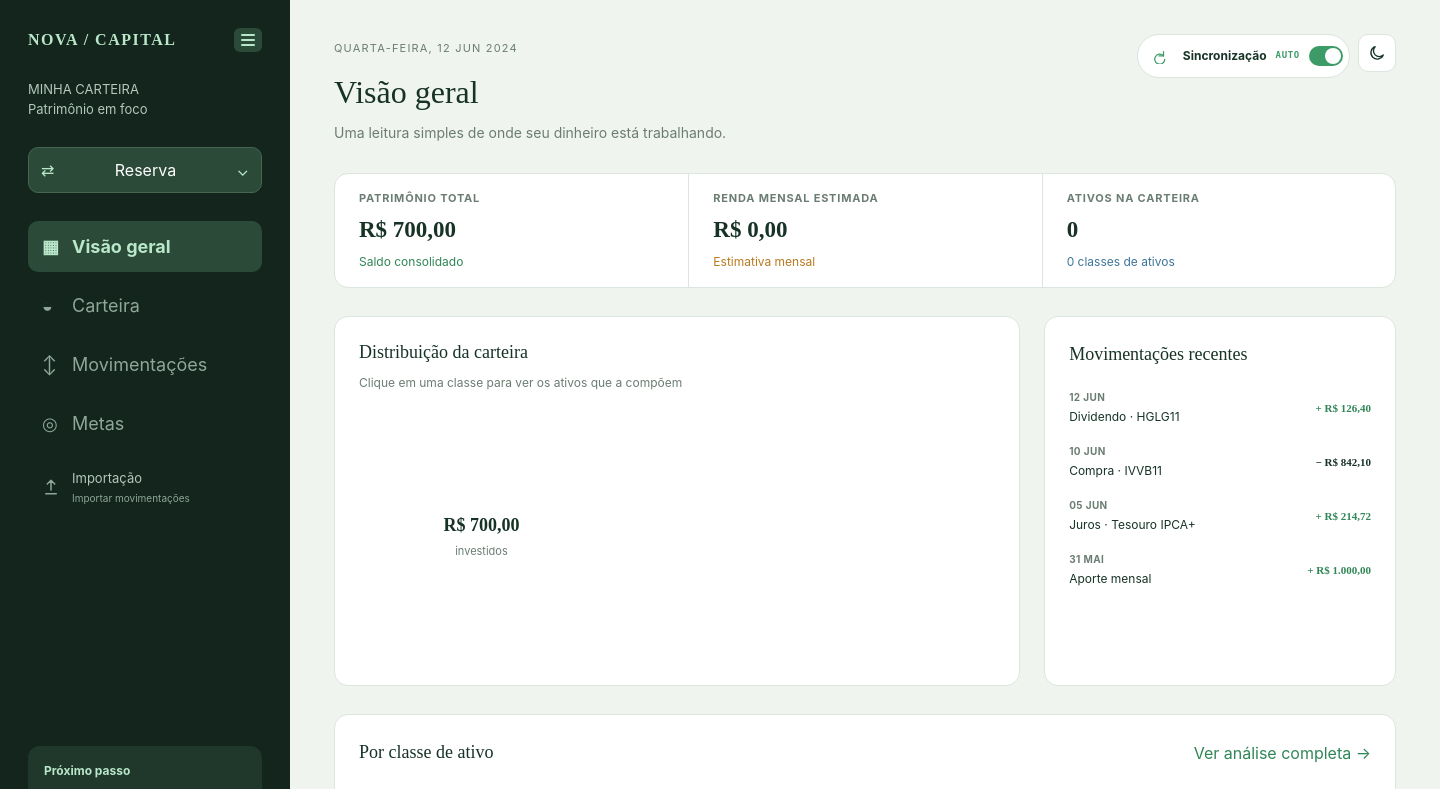
Scenario: I4 — seleção e carregamento › mantém dados anteriores da mesma carteira e mostra erro de atualização
Expected: the element named "Resumo da carteira" is shown, [334,173,1396,288]
Click the button named "Sincronizar dados da carteira" at [1159, 56], box [1144,41,1174,71]
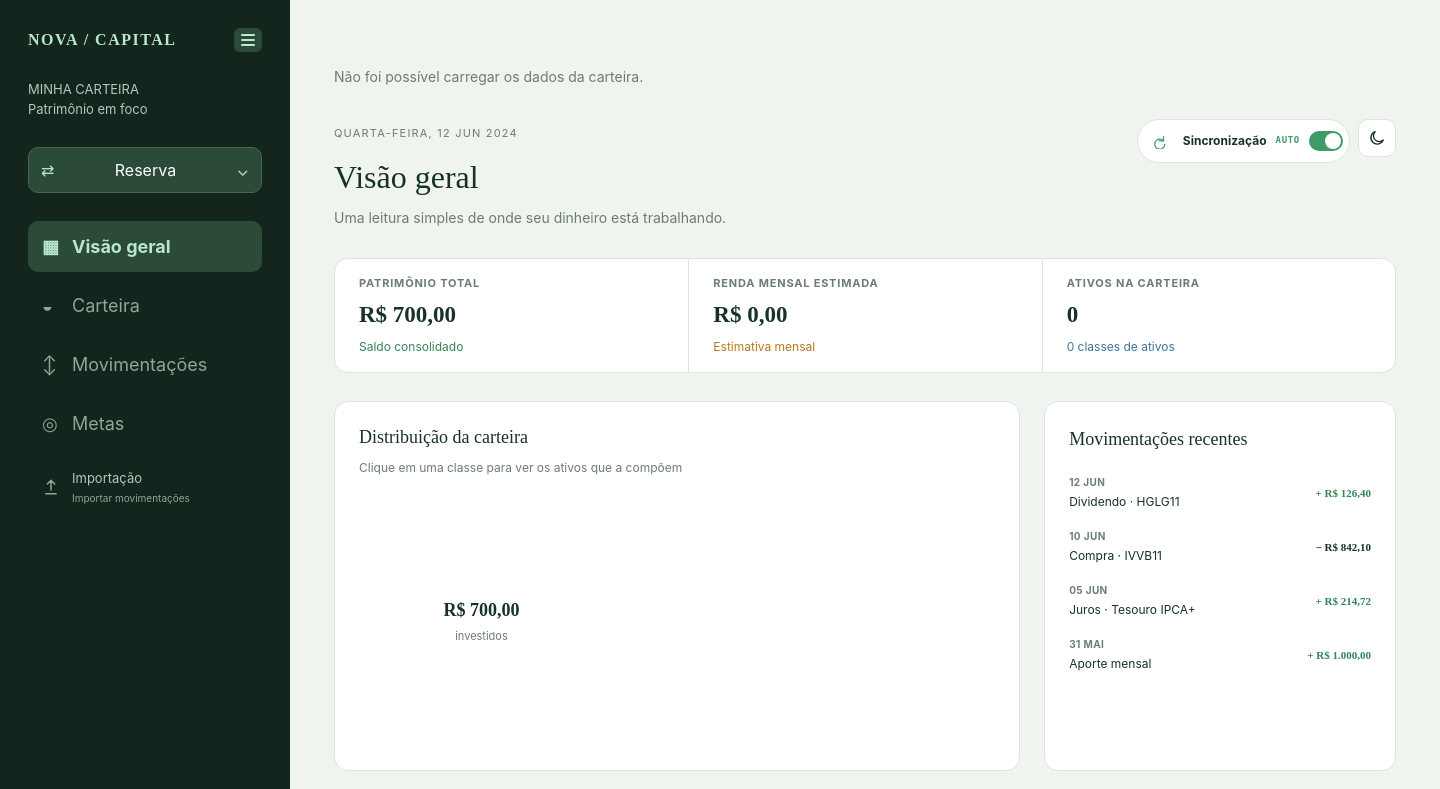
Expected: the text "R$ 700,00" below "Patrimônio total" is shown, [359,302,456,326]
Expected: the message "Não foi possível carregar os dados da carteira." is shown, [334,68,643,85]
